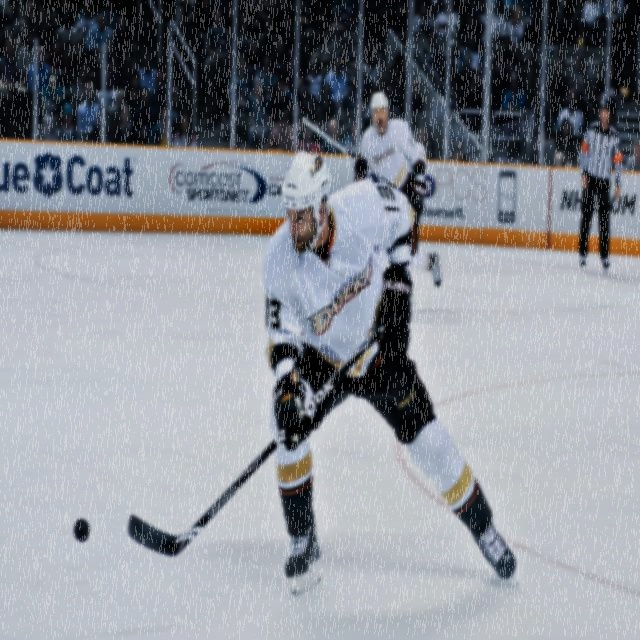pessoa: (259, 146, 528, 596), (1, 0, 640, 148), (352, 86, 442, 288), (574, 94, 624, 277), (199, 10, 235, 105), (290, 118, 322, 194), (52, 12, 82, 81), (268, 72, 294, 146), (0, 35, 28, 99), (248, 81, 270, 150), (76, 82, 100, 143), (324, 55, 349, 113), (85, 11, 114, 61), (111, 12, 134, 74), (556, 88, 584, 138), (554, 116, 578, 168), (28, 46, 51, 95), (147, 106, 175, 146), (266, 112, 294, 152), (172, 109, 198, 148), (54, 102, 78, 140), (119, 100, 139, 144), (320, 118, 344, 154), (502, 79, 525, 111), (140, 54, 158, 94), (38, 112, 58, 142)
